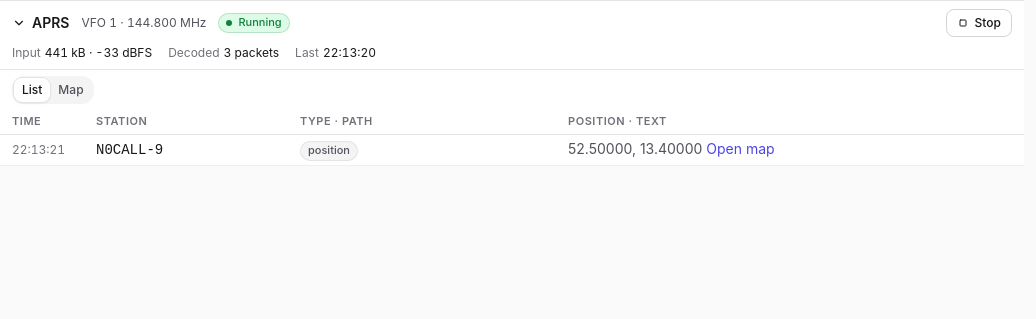
Test: switches the APRS output between the list and the map
Expected: the table is shown, [0,110,1024,166]
Step 1. Click the radio button labelled "Map" → (71, 90), box [50,78,92,102]
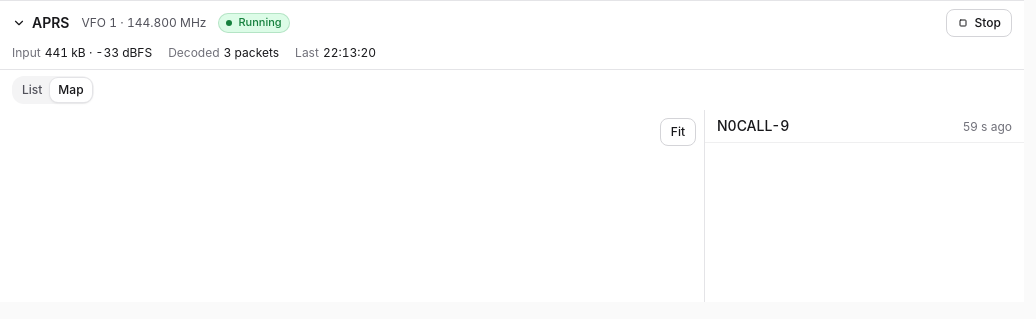
Now the element with test id "aprs-map-view" is shown, box [660,110,1024,302]
Now the table is gone
Step 2. Click the radio button labelled "List" → (32, 90), box [14,78,50,102]
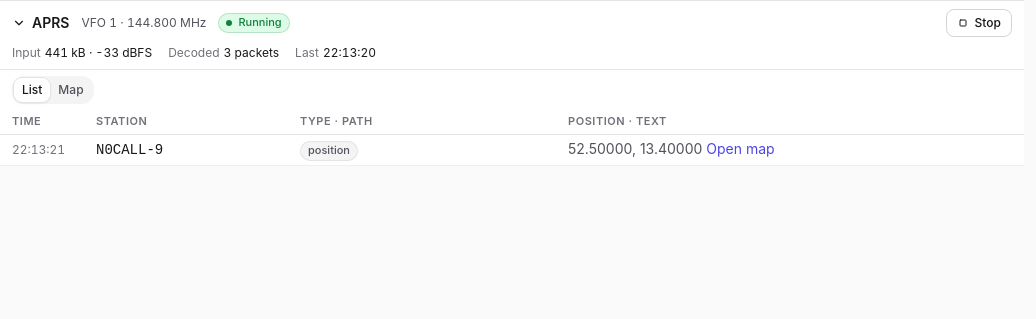
Now the table is shown, box [0,110,1024,166]
